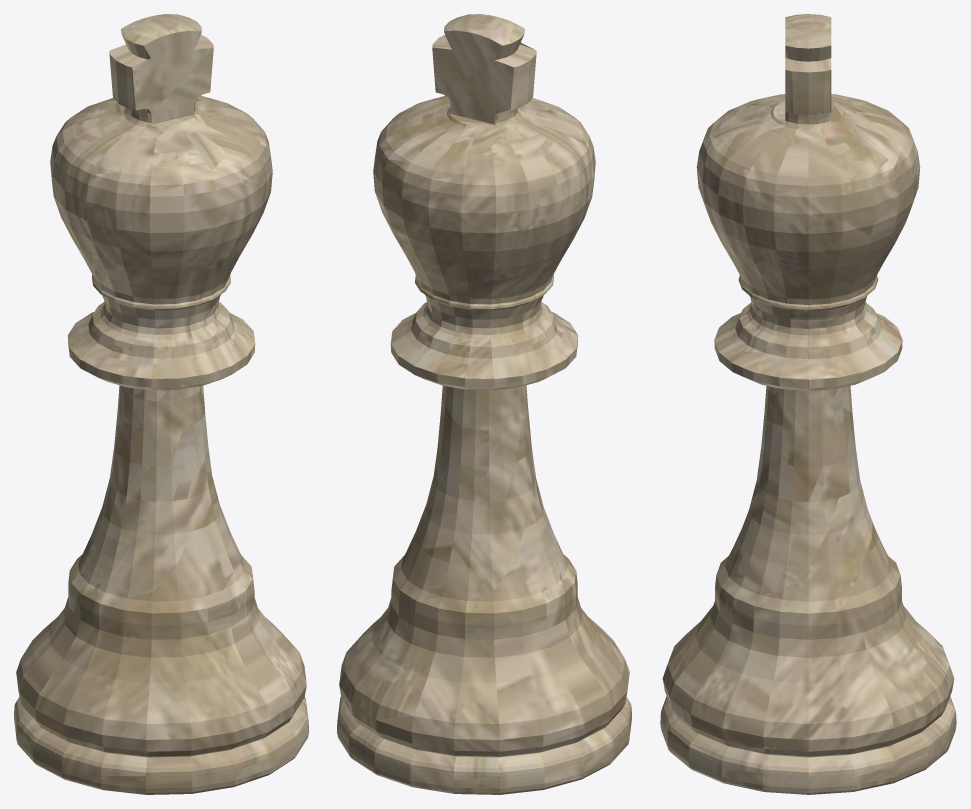
Rendered from king_1.obj.
The picture shows the model from 3 angles, left to right: view 1: azimuth 30°, elevation 25°; view 2: azimuth 150°, elevation 25°; view 3: azimuth 270°, elevation 25°; orthographic projection.
Visible parts, largest first — view 1: RE2; view 2: RE2; view 3: RE2.
Boxes of the visible parts, left/top/right/bottom form: RE2: left=14, top=14, right=308, bottom=794; RE2: left=337, top=14, right=631, bottom=794; RE2: left=660, top=14, right=956, bottom=794.
Bounding box in the file's own units: 93.03 × 247 × 93.03.
Materials: 1 (1 with a texture image).
